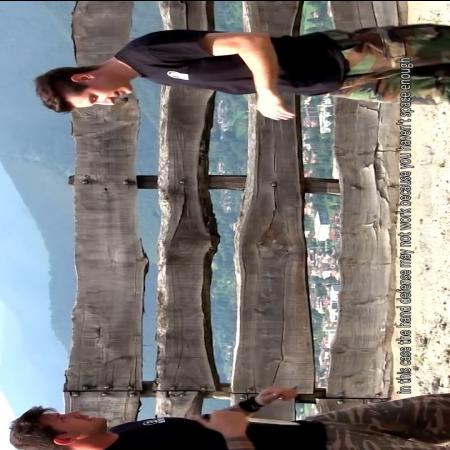long weapon: (197, 408, 301, 430)
